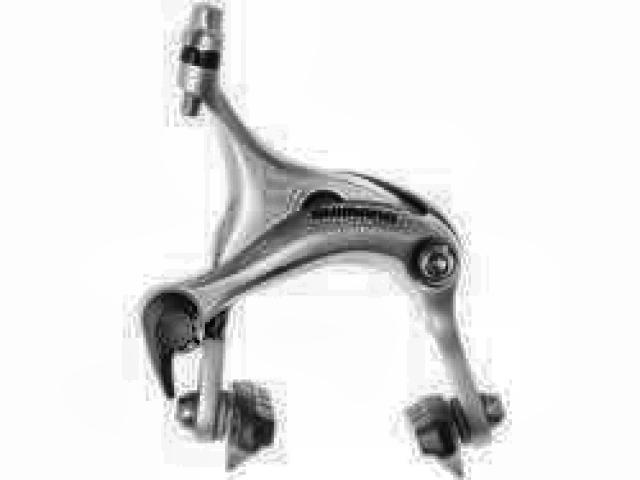rim_brake: (139, 1, 504, 473)
